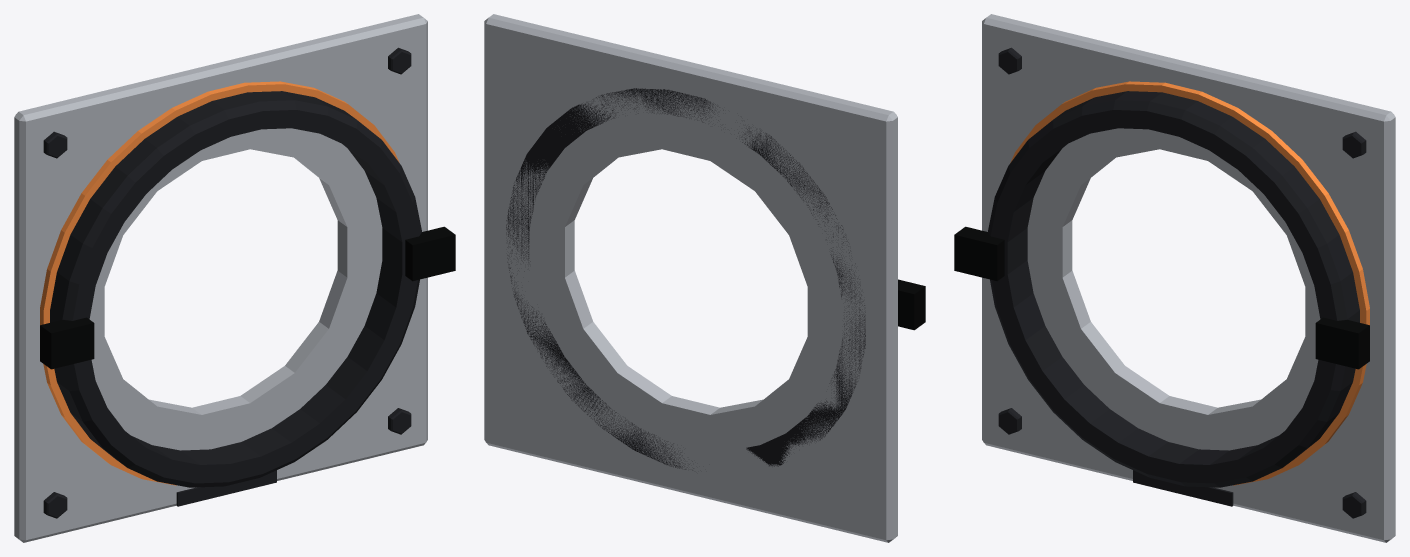
File: navball_housing.glb
3 views of the same model, side by side, from view 1: azimuth 30°, elevation 25°; view 2: azimuth 150°, elevation 25°; view 3: azimuth 330°, elevation 25° (orthographic).
Parts seen in each view (by area): view 1: NavballHousing; view 2: NavballHousing; view 3: NavballHousing.
Boxes of the visible parts, x1,y1,x2,y2 form: NavballHousing: (14, 14, 455, 542); NavballHousing: (484, 14, 925, 542); NavballHousing: (954, 14, 1395, 542).
Size of the model in its own units: 0.19 by 0.19 by 0.03.
